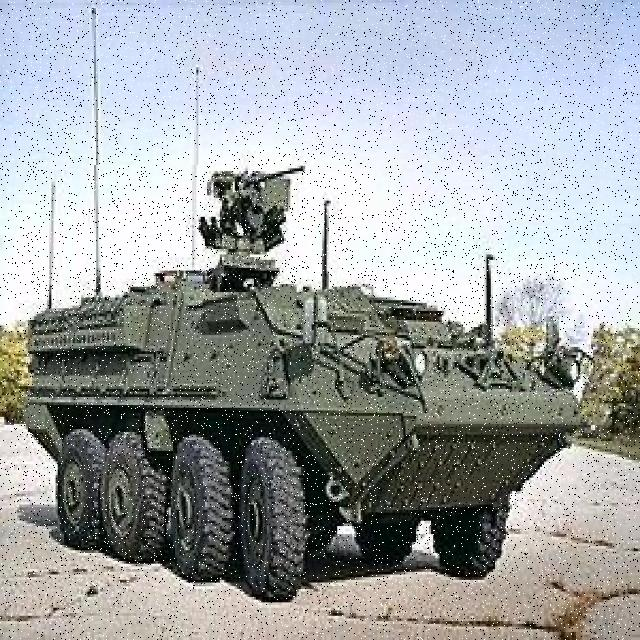MIL_MBT: (15, 165, 568, 584)
